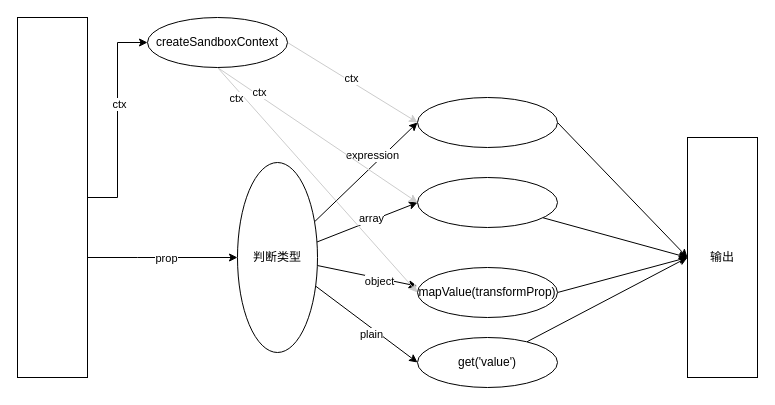
This 775x405 diagram has some shape labels left out. Here are the shapes that lost their labels. From the top down, the centre of each, then its label:
point 487,122: runExpression
point 52,197: 输入
point 487,202: map(transformProp)
